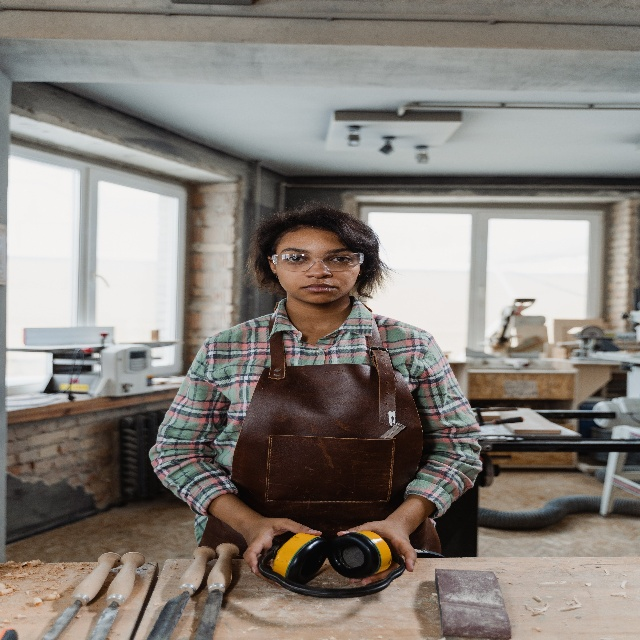Gafas: (276, 251, 363, 274)
Sin_guantes: (242, 517, 321, 584), (335, 525, 417, 571)
